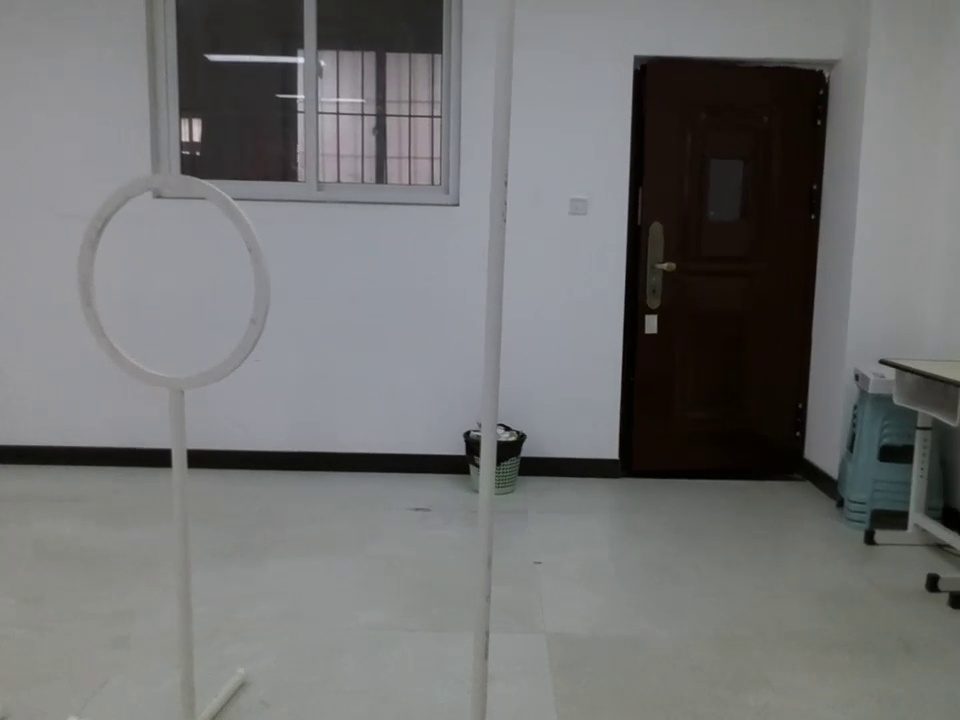gan: (467, 3, 524, 720)
quan: (44, 161, 276, 405)
